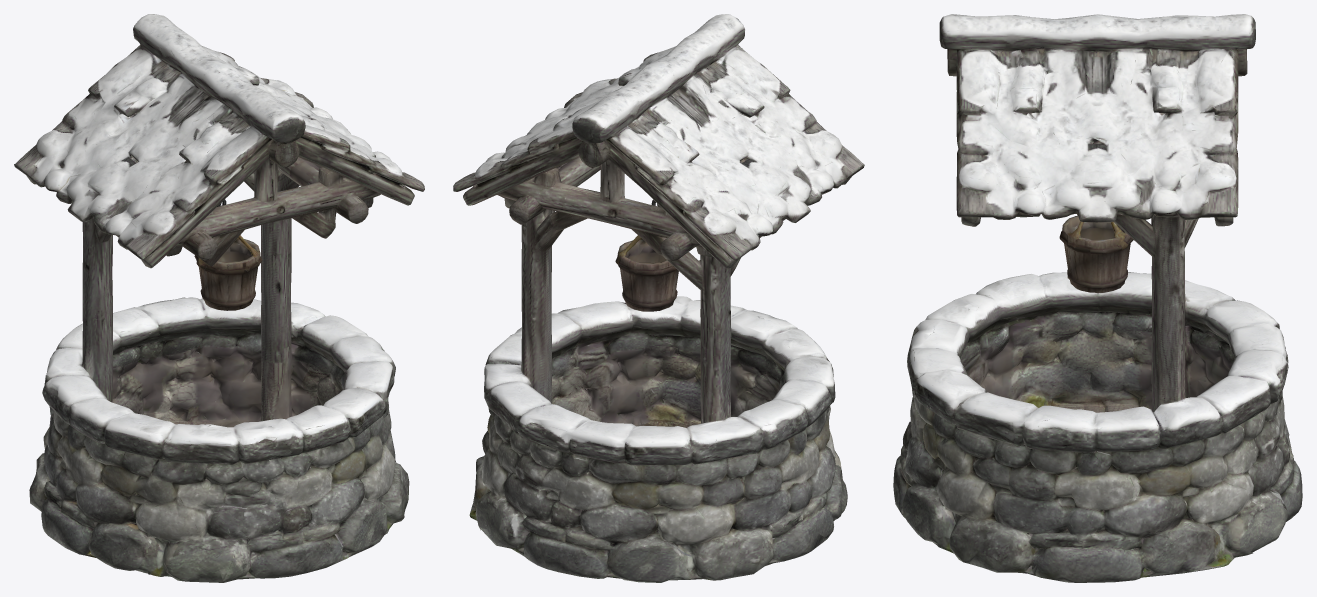
File: well.glb
3 views of the same model, side by side, from view 1: azimuth 30°, elevation 25°; view 2: azimuth 150°, elevation 25°; view 3: azimuth 270°, elevation 25° (orthographic). The views are drawn at different scales.
Parts seen in each view (by area): view 1: Mesh_0; view 2: Mesh_0; view 3: Mesh_0.
Part boxes in pixels (x1,y1,x2,y2): Mesh_0: (14, 14, 424, 582); Mesh_0: (453, 14, 864, 582); Mesh_0: (893, 14, 1302, 582).
Bounding box in the file's own units: 1.47 × 1.9 × 1.47.
Materials: 1 (1 with a texture image).
